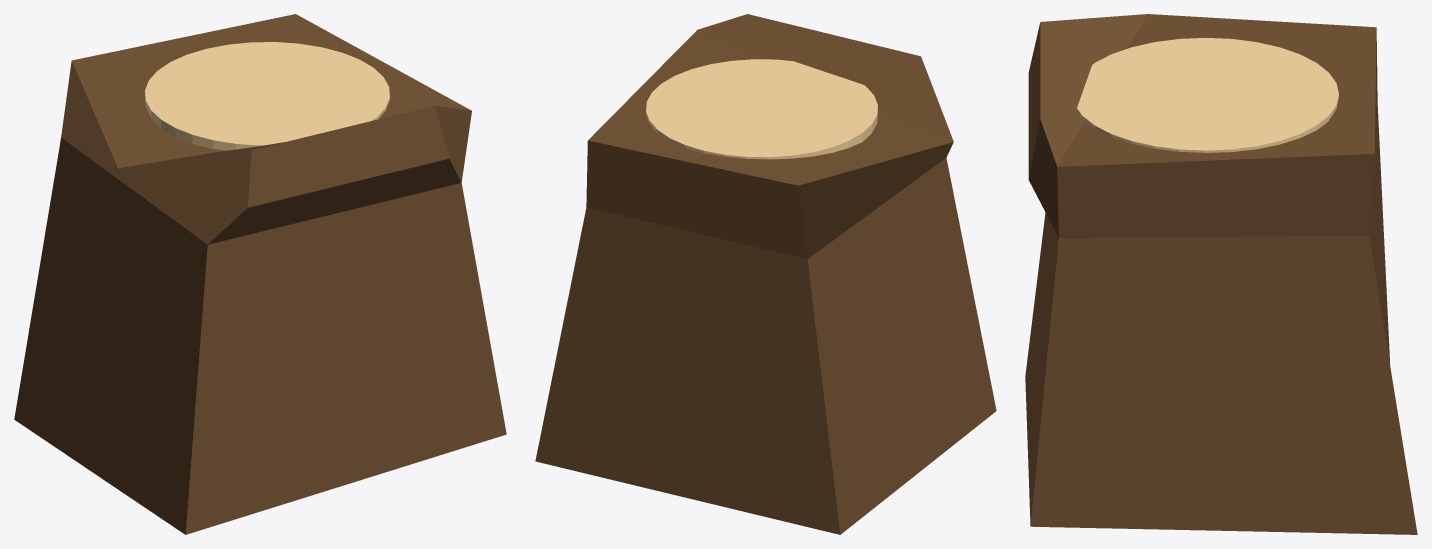
The model's file is Stump1.fbx.
3 renders of one model, left to right at view 1: azimuth 30°, elevation 25°; view 2: azimuth 150°, elevation 25°; view 3: azimuth 270°, elevation 25°, orthographic. The views are drawn at different scales.
Parts seen in each view (by area): view 1: Cube.007; view 2: Cube.007; view 3: Cube.007.
Part boxes in pixels (box(x1,y1,x2,y2)): Cube.007: box(14, 14, 506, 534); Cube.007: box(535, 14, 996, 534); Cube.007: box(1025, 14, 1417, 534).
Size of the model in its own units: 264 by 278 by 246.
